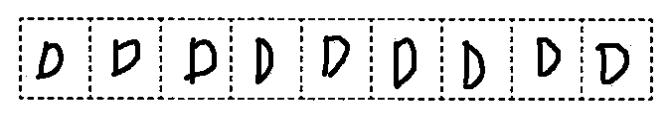D: (381, 34, 427, 92), (450, 36, 494, 92), (586, 38, 635, 88), (524, 31, 570, 83), (181, 34, 222, 88), (313, 30, 355, 81), (30, 35, 70, 85), (246, 32, 281, 88), (107, 33, 145, 78)
